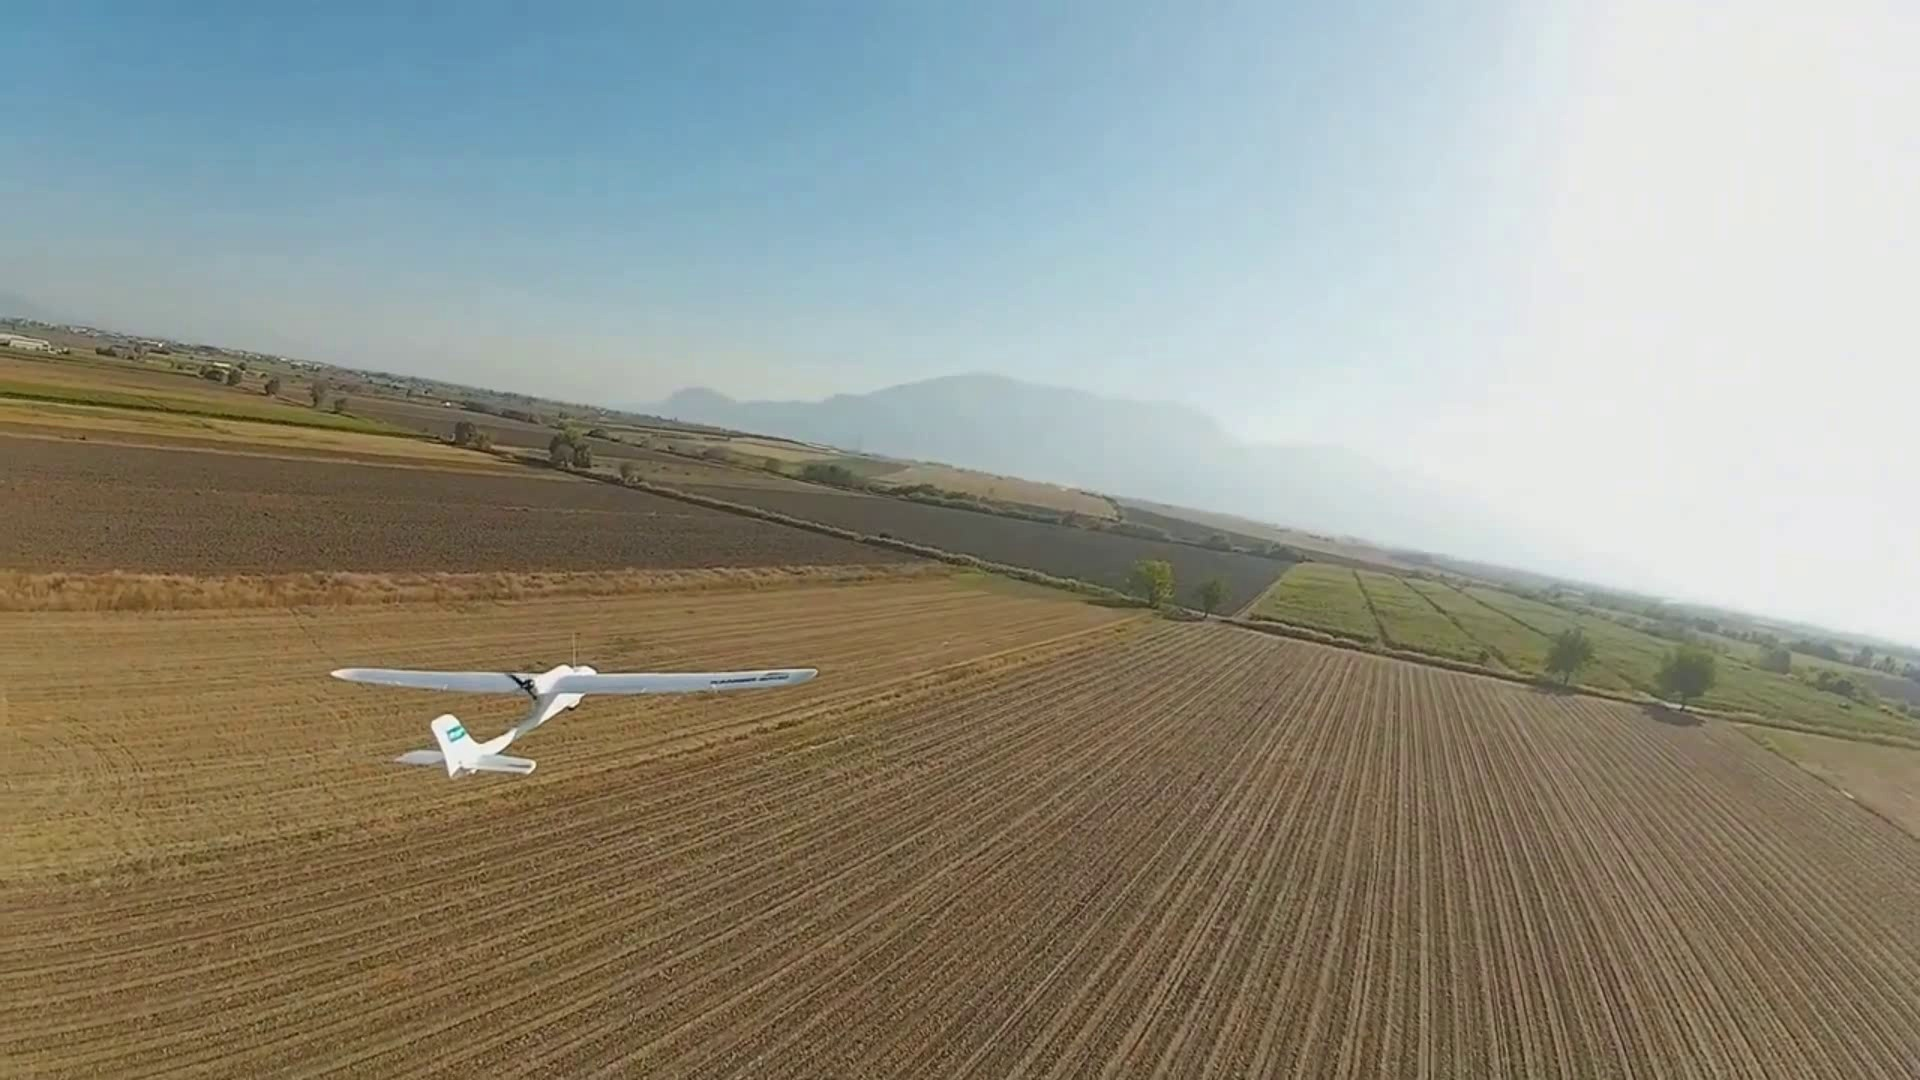airplane: (328, 657, 819, 779)
